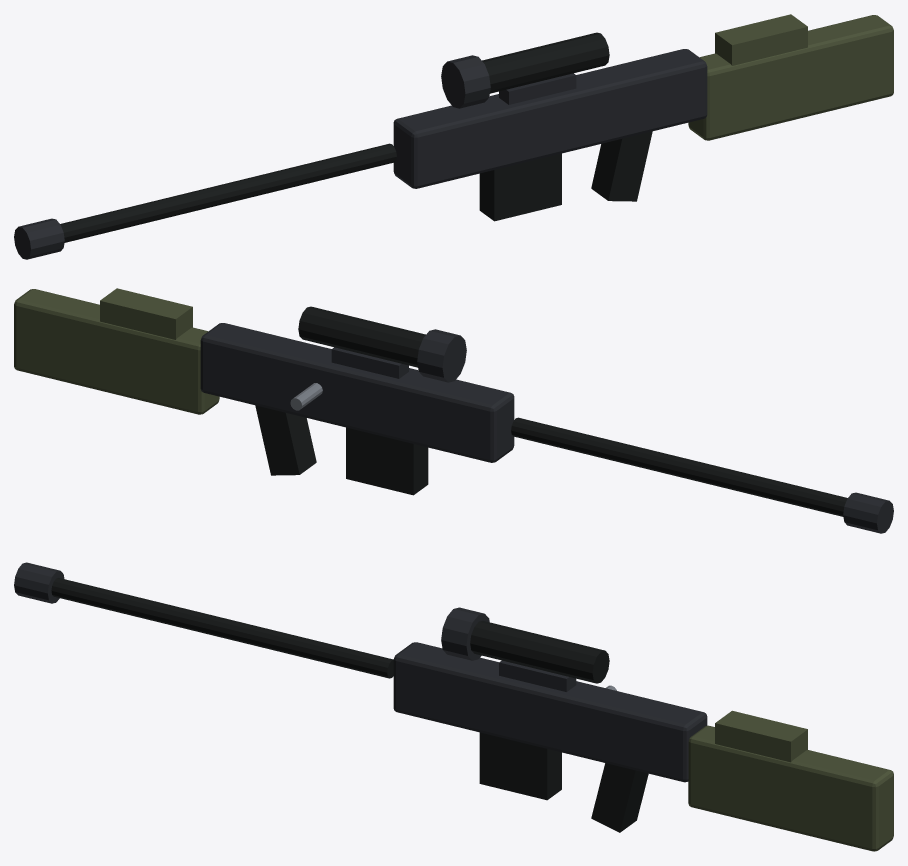
File: SniperRifle.obj
3 views of the same model, one above another, from view 1: azimuth 30°, elevation 25°; view 2: azimuth 150°, elevation 25°; view 3: azimuth 330°, elevation 25° (orthographic).
Visible parts, largest first — view 1: SniperRifle_Receiver, SniperRifle_Stock, SniperRifle_Barrel, SniperRifle_ScopeTube, SniperRifle_Magazine, SniperRifle_Cheek, SniperRifle_Grip, SniperRifle_ScopeBell, SniperRifle_MuzzleBrake, SniperRifle_ScopeMount; view 2: SniperRifle_Receiver, SniperRifle_Stock, SniperRifle_Barrel, SniperRifle_ScopeTube, SniperRifle_Magazine, SniperRifle_Cheek, SniperRifle_Grip, SniperRifle_ScopeBell, SniperRifle_MuzzleBrake, SniperRifle_ScopeMount; view 3: SniperRifle_Receiver, SniperRifle_Stock, SniperRifle_Barrel, SniperRifle_ScopeTube, SniperRifle_Magazine, SniperRifle_Cheek, SniperRifle_Grip, SniperRifle_ScopeBell, SniperRifle_MuzzleBrake, SniperRifle_ScopeMount.
Boxes of the visible parts, bbox=[...] form: SniperRifle_Receiver: bbox=[393, 49, 707, 188]; SniperRifle_Stock: bbox=[688, 15, 893, 140]; SniperRifle_Barrel: bbox=[60, 143, 396, 242]; SniperRifle_ScopeTube: bbox=[482, 32, 609, 93]; SniperRifle_Magazine: bbox=[479, 153, 561, 221]; SniperRifle_Cheek: bbox=[715, 14, 807, 65]; SniperRifle_Grip: bbox=[591, 131, 652, 201]; SniperRifle_ScopeBell: bbox=[441, 55, 490, 108]; SniperRifle_MuzzleBrake: bbox=[14, 218, 64, 259]; SniperRifle_ScopeMount: bbox=[499, 73, 576, 104]; SniperRifle_Receiver: bbox=[200, 323, 514, 462]; SniperRifle_Stock: bbox=[14, 289, 219, 414]; SniperRifle_Barrel: bbox=[511, 417, 847, 516]; SniperRifle_ScopeTube: bbox=[298, 306, 425, 367]; SniperRifle_Magazine: bbox=[346, 427, 428, 495]; SniperRifle_Cheek: bbox=[100, 288, 192, 339]; SniperRifle_Grip: bbox=[255, 405, 316, 475]; SniperRifle_ScopeBell: bbox=[417, 329, 466, 382]; SniperRifle_MuzzleBrake: bbox=[843, 492, 893, 533]; SniperRifle_ScopeMount: bbox=[331, 347, 408, 378]; SniperRifle_Receiver: bbox=[393, 642, 707, 782]; SniperRifle_Stock: bbox=[688, 725, 893, 851]; SniperRifle_Barrel: bbox=[51, 578, 393, 678]; SniperRifle_ScopeTube: bbox=[470, 621, 609, 683]; SniperRifle_Magazine: bbox=[479, 732, 561, 800]; SniperRifle_Cheek: bbox=[715, 710, 807, 762]; SniperRifle_Grip: bbox=[591, 763, 648, 832]; SniperRifle_ScopeBell: bbox=[441, 607, 489, 660]; SniperRifle_MuzzleBrake: bbox=[14, 562, 64, 603]; SniperRifle_ScopeMount: bbox=[499, 660, 576, 691].
Size of the model in its own units: 2.05 by 0.3961 by 0.18.
